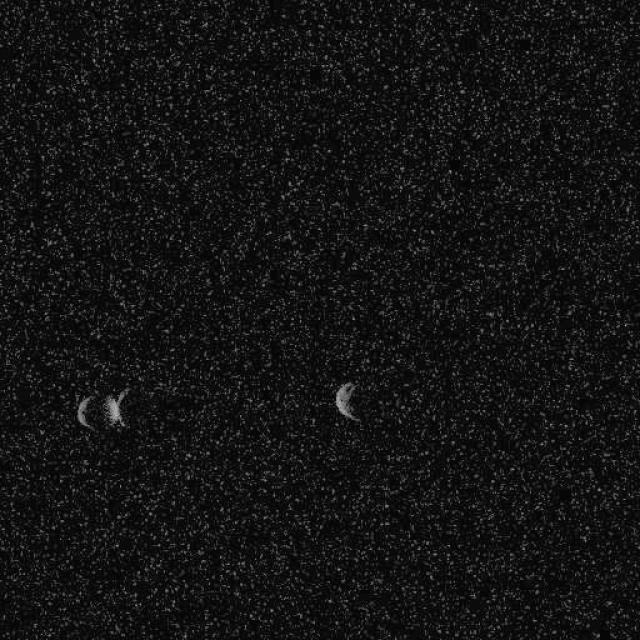D2: (75, 385, 130, 433), (334, 380, 360, 422)
